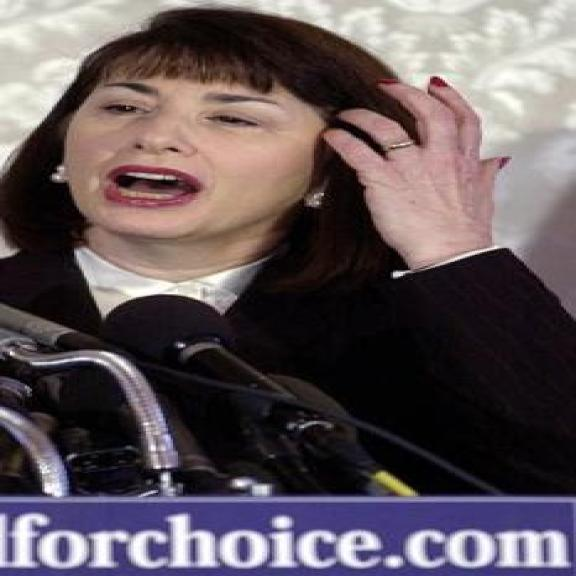face: (70, 60, 347, 243)
